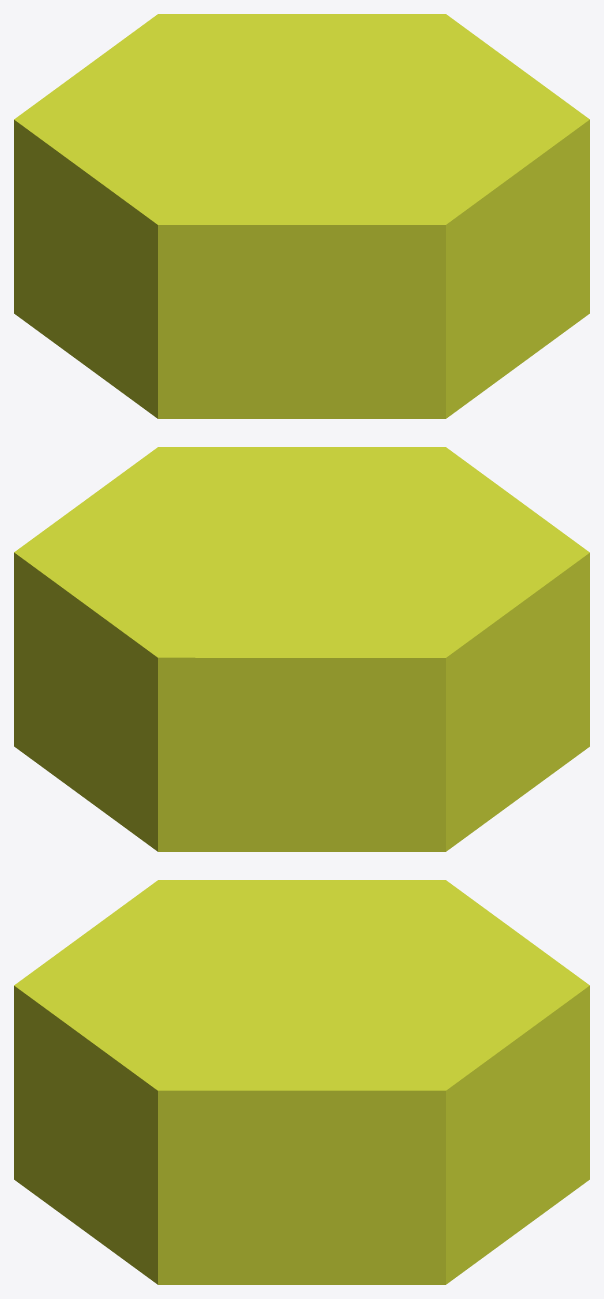
The model's file is NormalTileStage2.fbx.
3 views of the same model, one above another, from view 1: azimuth 30°, elevation 25°; view 2: azimuth 150°, elevation 25°; view 3: azimuth 270°, elevation 25° (orthographic).
Parts seen in each view (by area): view 1: NormalTileStage2; view 2: NormalTileStage2; view 3: NormalTileStage2.
Part boxes in pixels (left/top/right/bottom): NormalTileStage2: left=14, top=14, right=589, bottom=418; NormalTileStage2: left=14, top=447, right=589, bottom=851; NormalTileStage2: left=14, top=880, right=589, bottom=1284.
Size of the model in its own units: 173 by 74.42 by 200.
